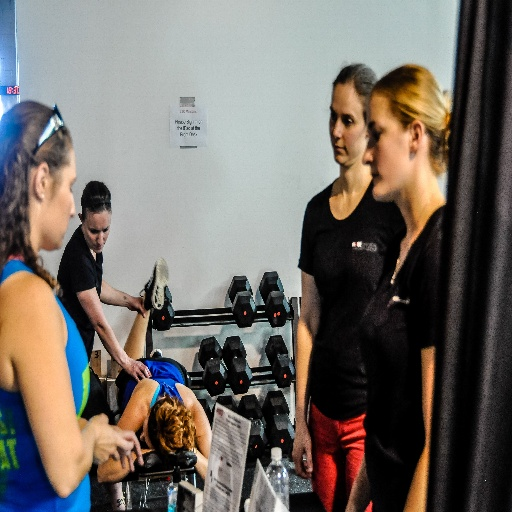hand: (66, 414, 140, 479), (290, 420, 313, 479), (116, 426, 144, 472), (123, 358, 152, 382), (128, 296, 145, 318)
